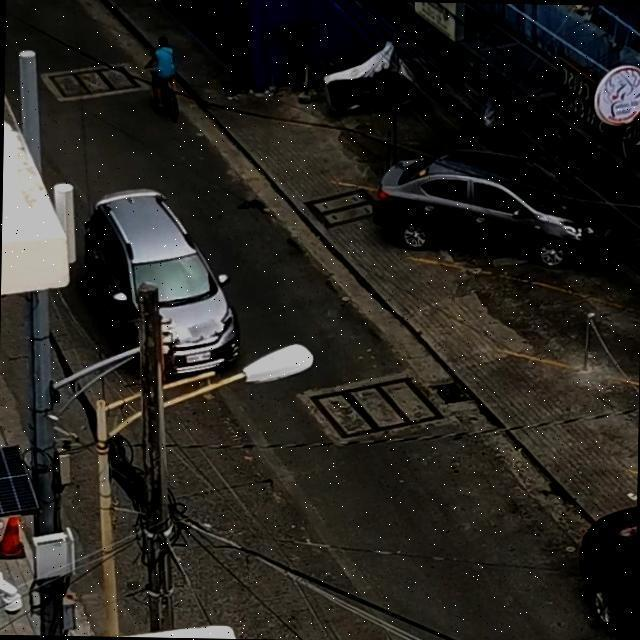Bike: (142, 31, 180, 110)
